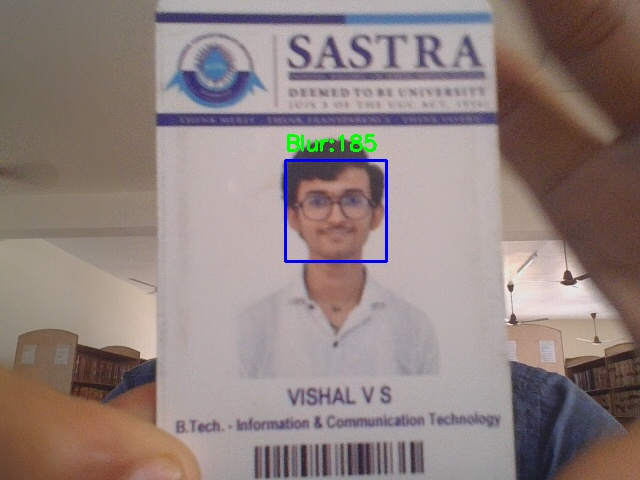fake: (285, 160, 386, 261)
